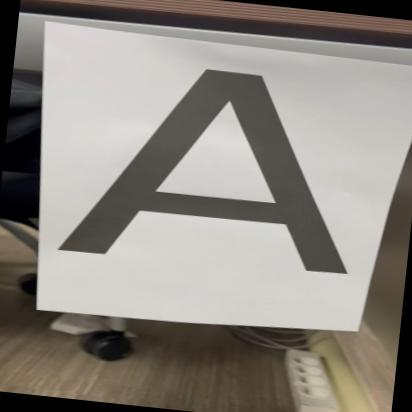seat: (58, 44, 376, 292)
